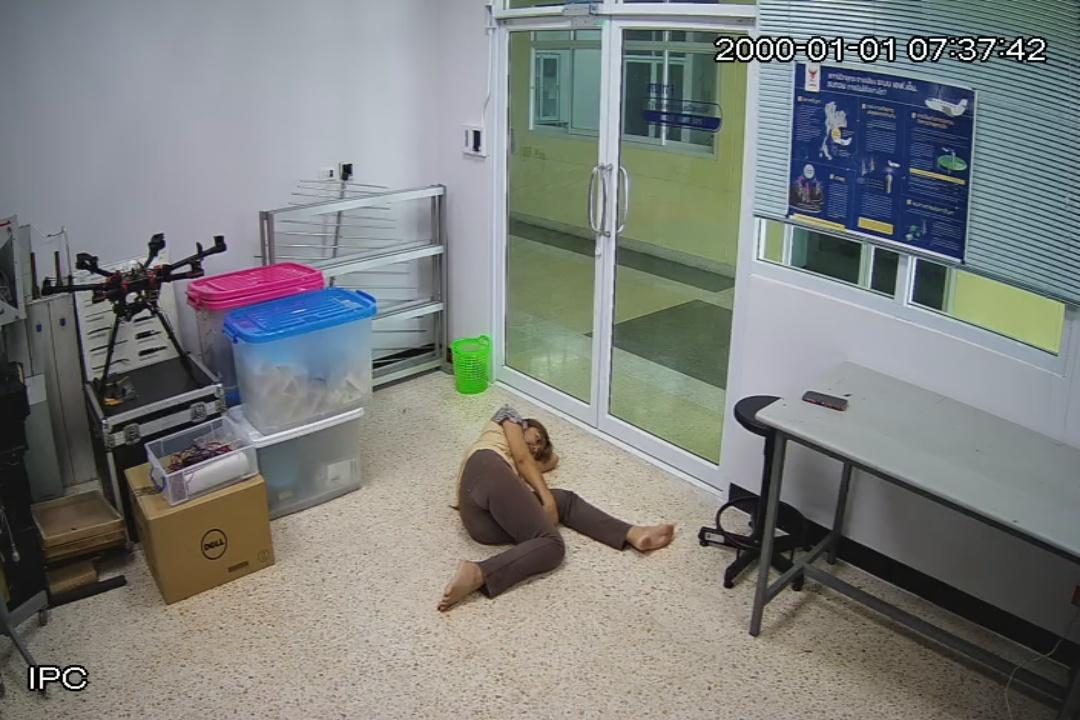fall: (439, 403, 677, 609)
